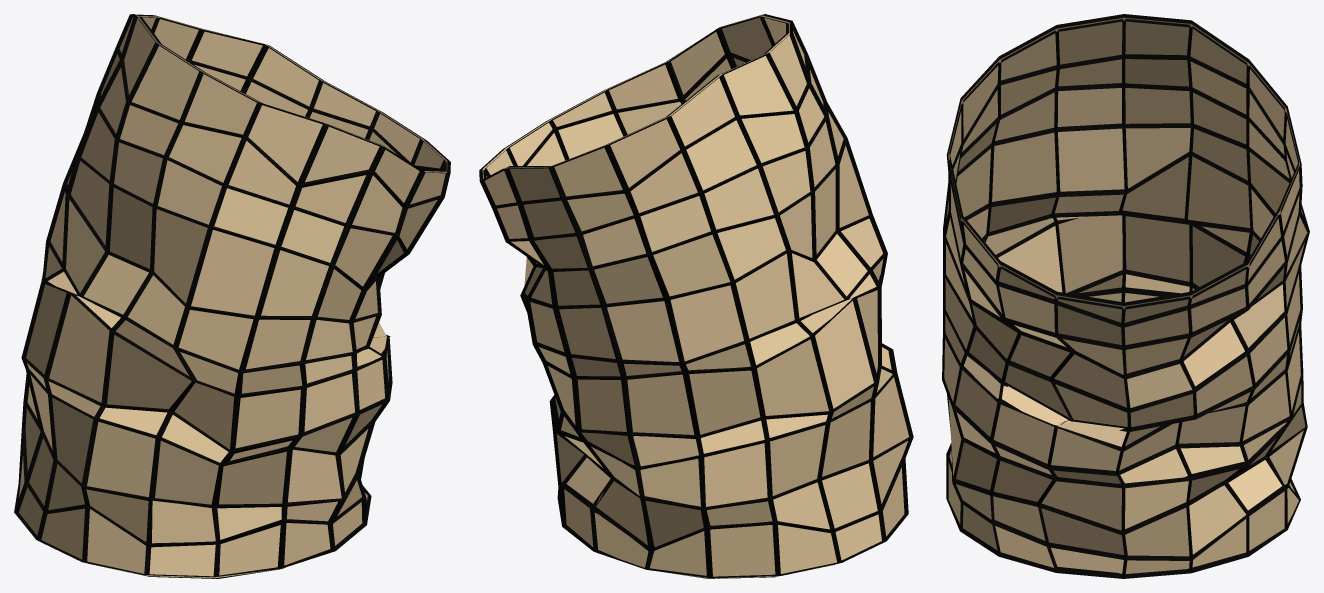
3 views of the same model, side by side, from view 1: azimuth 30°, elevation 25°; view 2: azimuth 150°, elevation 25°; view 3: azimuth 270°, elevation 25° (orthographic).
Visible parts, largest first — view 1: Cylinder; view 2: Cylinder; view 3: Cylinder.
Boxes of the visible parts, x1,y1,x2,y2 form: Cylinder: [14, 14, 450, 578]; Cylinder: [479, 14, 913, 578]; Cylinder: [942, 14, 1309, 578].
Bounding box in the file's own units: 2.56 × 2.96 × 2.09.
